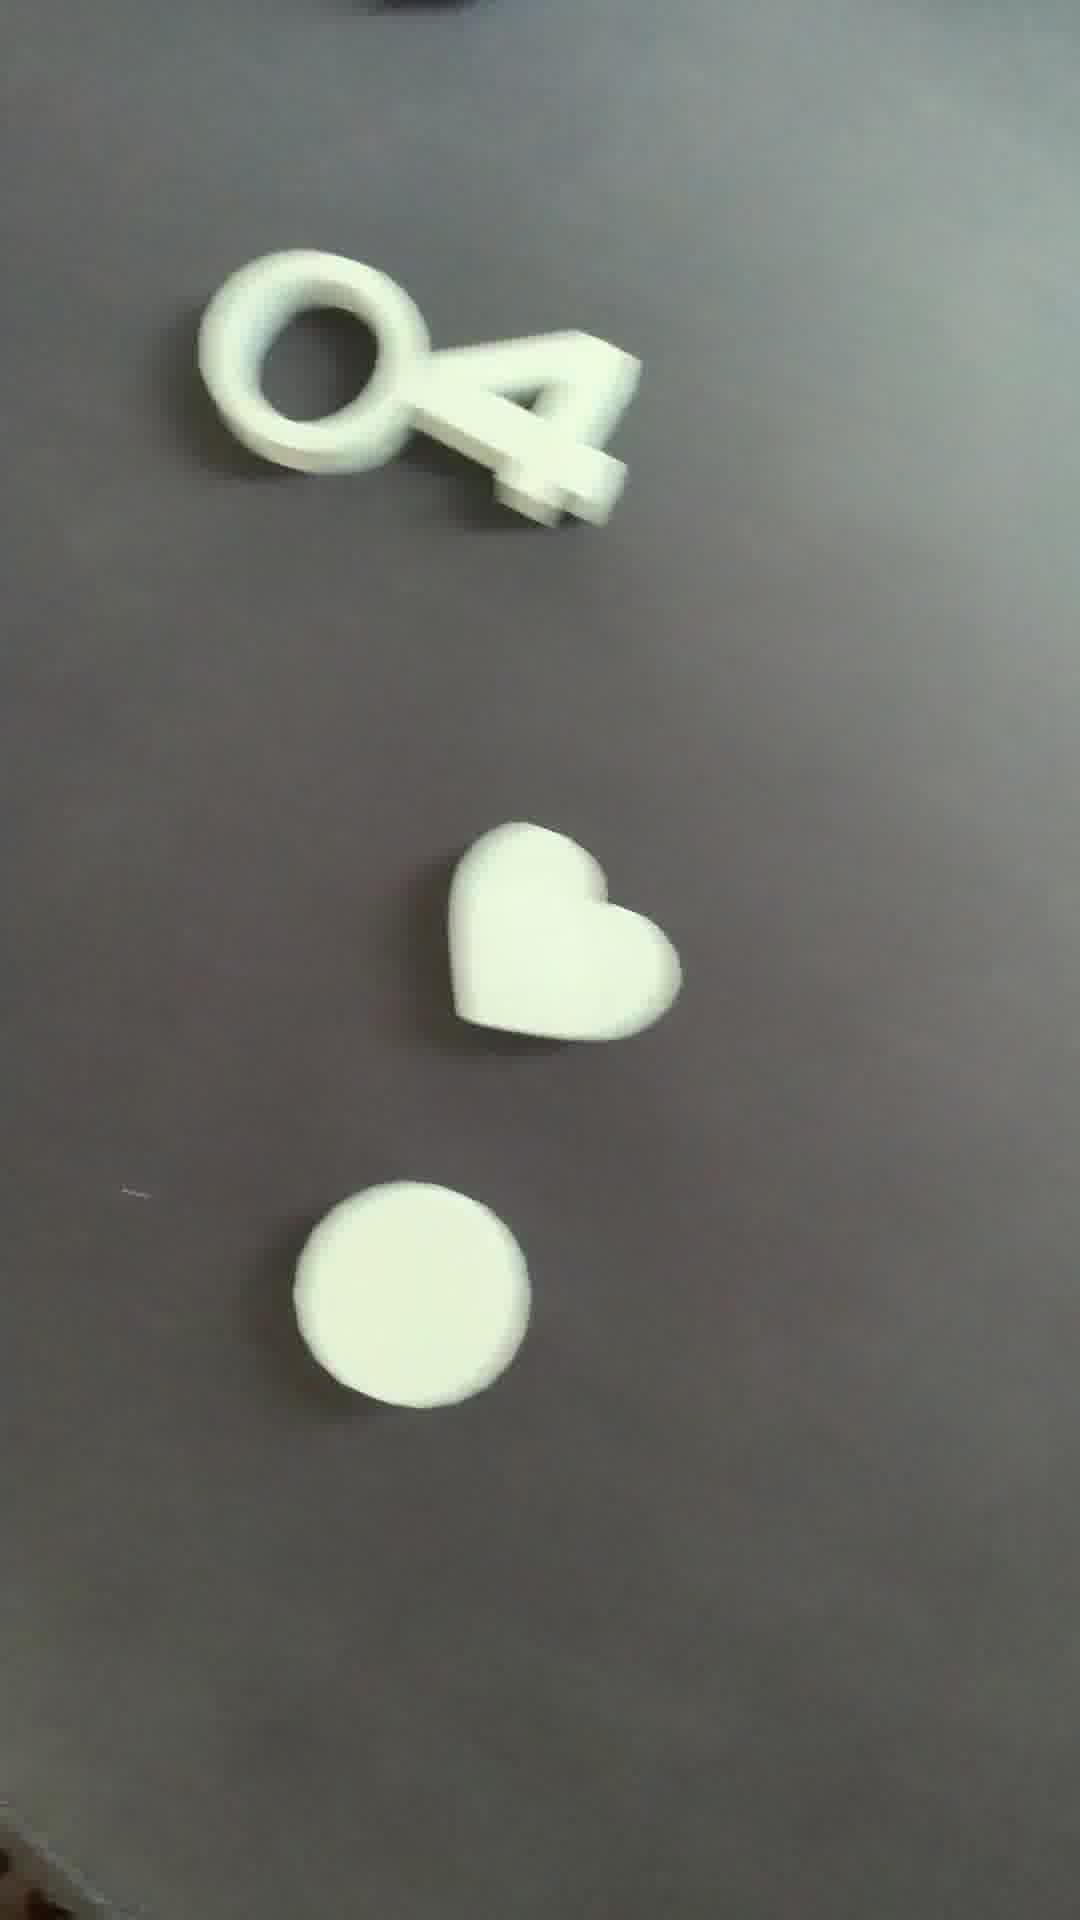Gray circle: (301, 1164, 549, 1414)
Gray four: (400, 322, 669, 526)
Gray heart: (439, 816, 692, 1038)
Gray ring: (186, 245, 417, 479)
